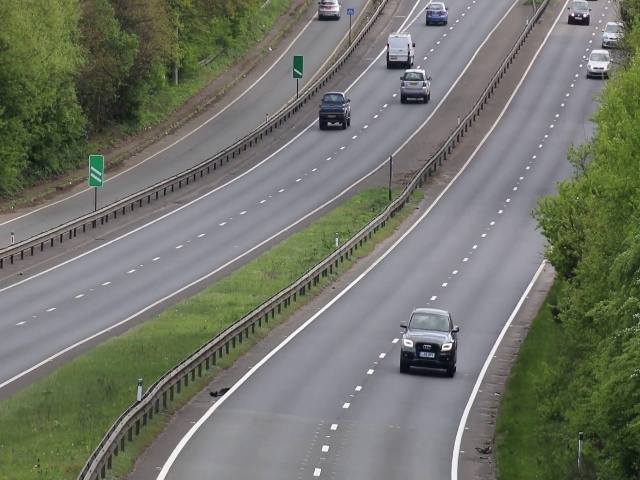car: (400, 307, 458, 381), (319, 90, 354, 131), (386, 31, 415, 67), (401, 68, 430, 103), (586, 48, 611, 80), (423, 1, 451, 27), (602, 22, 627, 50), (566, 2, 592, 25), (317, 1, 342, 21)
